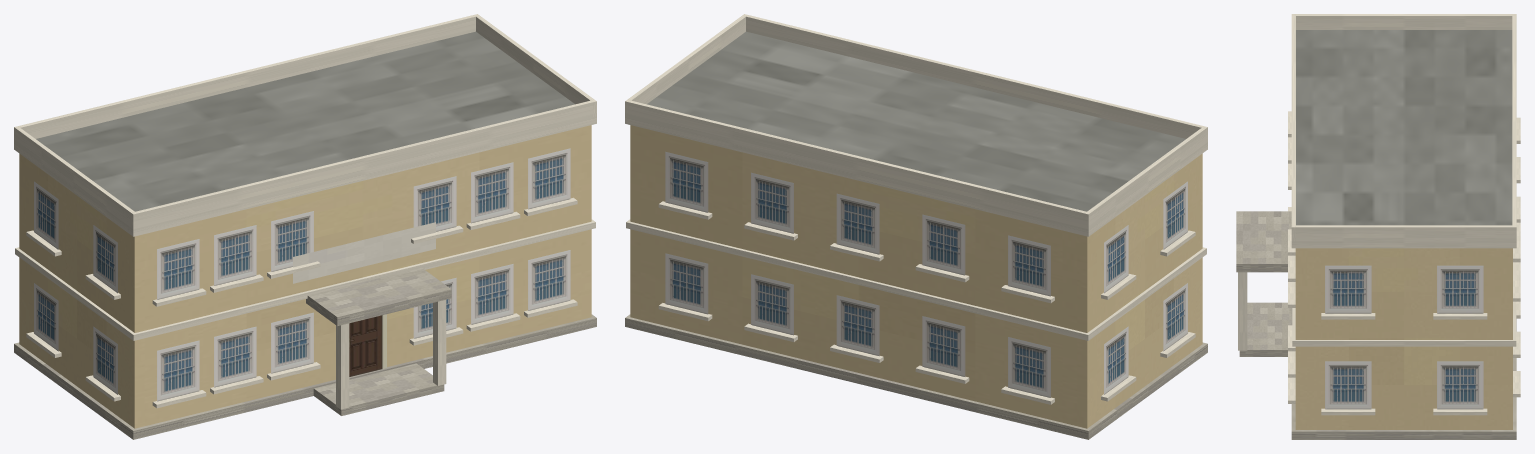
The model's file is school-cream.glb.
3 views of the same model, side by side, from view 1: azimuth 30°, elevation 25°; view 2: azimuth 150°, elevation 25°; view 3: azimuth 270°, elevation 25° (orthographic). The views are drawn at different scales.
Visible parts, largest first — view 1: school-cream, sign_1; view 2: school-cream; view 3: school-cream.
Boxes of the visible parts, left/top/right/bottom form: school-cream: left=14, top=14, right=596, bottom=439; sign_1: left=293, top=222, right=435, bottom=283; school-cream: left=625, top=14, right=1207, bottom=439; school-cream: left=1236, top=14, right=1520, bottom=439.
Bounding box in the file's own units: 16.48 × 7.55 × 9.14.
Materials: 1 (1 with a texture image).
